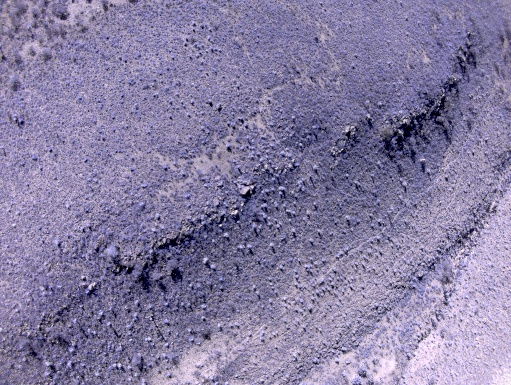agave: (183, 192, 193, 201), (31, 154, 39, 163), (135, 51, 143, 59), (173, 90, 180, 99), (84, 205, 91, 213), (129, 155, 136, 163), (120, 93, 125, 104), (111, 126, 117, 135), (350, 63, 357, 70), (210, 46, 217, 53), (403, 15, 410, 22), (225, 119, 231, 126), (239, 29, 246, 35), (163, 165, 169, 172), (47, 146, 53, 153), (369, 222, 375, 228), (77, 96, 83, 102), (142, 95, 148, 101), (110, 115, 116, 121), (208, 98, 213, 105), (192, 21, 197, 28), (172, 161, 179, 166), (82, 157, 89, 162), (130, 166, 135, 173), (201, 139, 206, 146), (190, 98, 195, 105), (183, 40, 188, 47), (199, 23, 205, 28), (376, 199, 381, 205), (95, 98, 101, 103), (168, 114, 173, 120), (101, 135, 106, 141), (416, 20, 421, 26), (169, 99, 173, 105), (266, 98, 271, 102), (135, 104, 139, 109), (399, 1, 403, 6), (187, 113, 191, 117), (99, 130, 104, 132)
